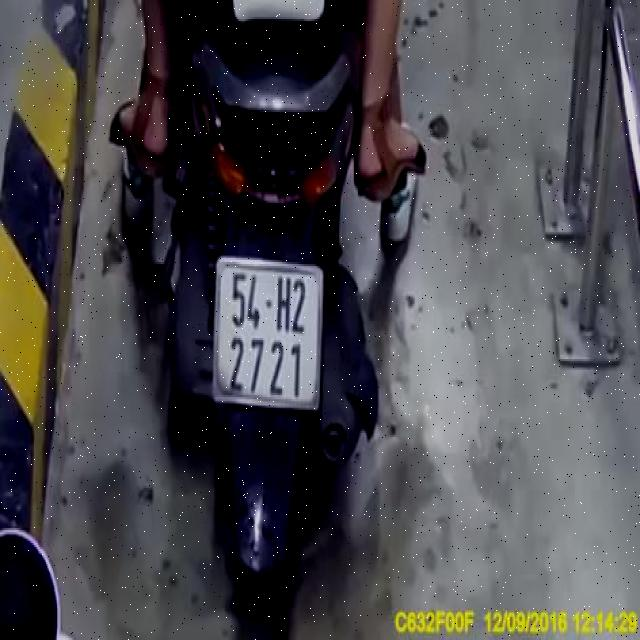1: (290, 346, 304, 400)
2: (228, 333, 246, 395), (269, 341, 286, 400), (292, 275, 307, 335)
4: (246, 271, 261, 329)
5: (232, 271, 246, 328)
7: (250, 335, 266, 393)
H: (276, 274, 293, 334)
